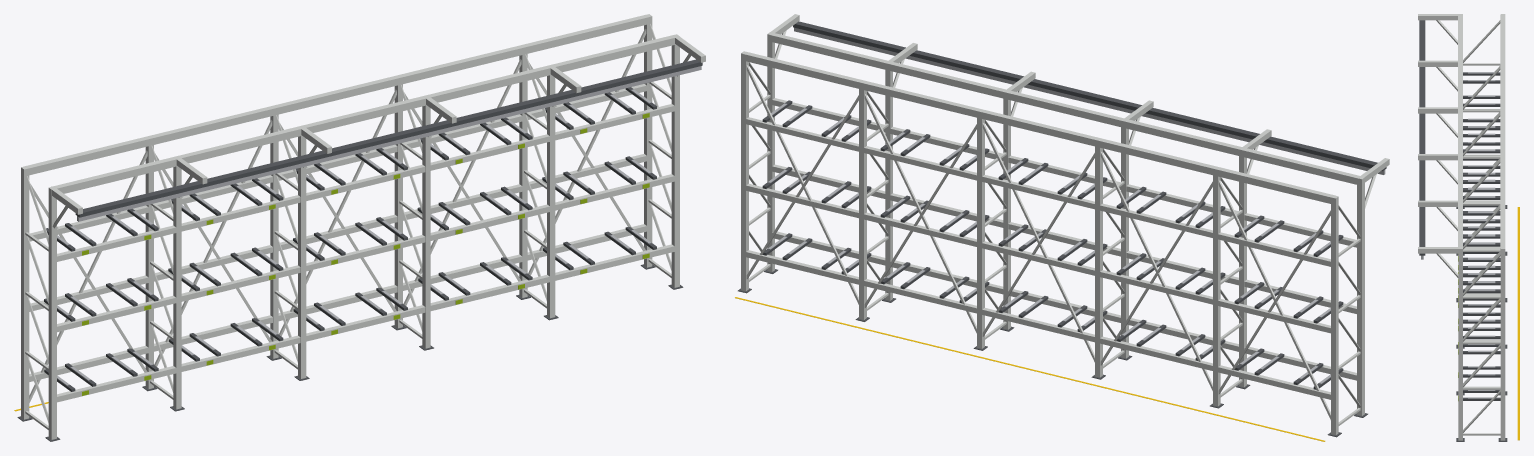
Rendered from pallet_rack_3L_10S.glb.
3 renders of one model, left to right at view 1: azimuth 30°, elevation 25°; view 2: azimuth 150°, elevation 25°; view 3: azimuth 270°, elevation 25°, orthographic. The views are drawn at different scales.
Parts seen in each view (by area): view 1: rack_frame__truss_white, rack_frame__steel_dark, rack_frame__steel, rack_frame__lime; view 2: rack_frame__truss_white, rack_frame__steel_dark, rack_frame__steel, rack_frame__yellow; view 3: rack_frame__truss_white, rack_frame__steel_dark, rack_frame__steel, rack_frame__yellow.
Boxes of the visible parts, x1=… form: rack_frame__truss_white: x1=21, y1=14, x2=705, y2=439; rack_frame__steel_dark: x1=17, y1=59, x2=702, y2=441; rack_frame__steel: x1=57, y1=66, x2=701, y2=385; rack_frame__lime: x1=82, y1=113, x2=649, y2=395; rack_frame__truss_white: x1=741, y1=14, x2=1389, y2=435; rack_frame__steel_dark: x1=738, y1=21, x2=1386, y2=437; rack_frame__steel: x1=767, y1=27, x2=1385, y2=383; rack_frame__yellow: x1=735, y1=297, x2=1325, y2=441; rack_frame__truss_white: x1=1418, y1=14, x2=1505, y2=440; rack_frame__steel_dark: x1=1419, y1=20, x2=1507, y2=441; rack_frame__steel: x1=1421, y1=72, x2=1495, y2=398; rack_frame__yellow: x1=1517, y1=207, x2=1519, y2=440.
Size of the model in its own units: 13.2 by 5 by 2.4.
